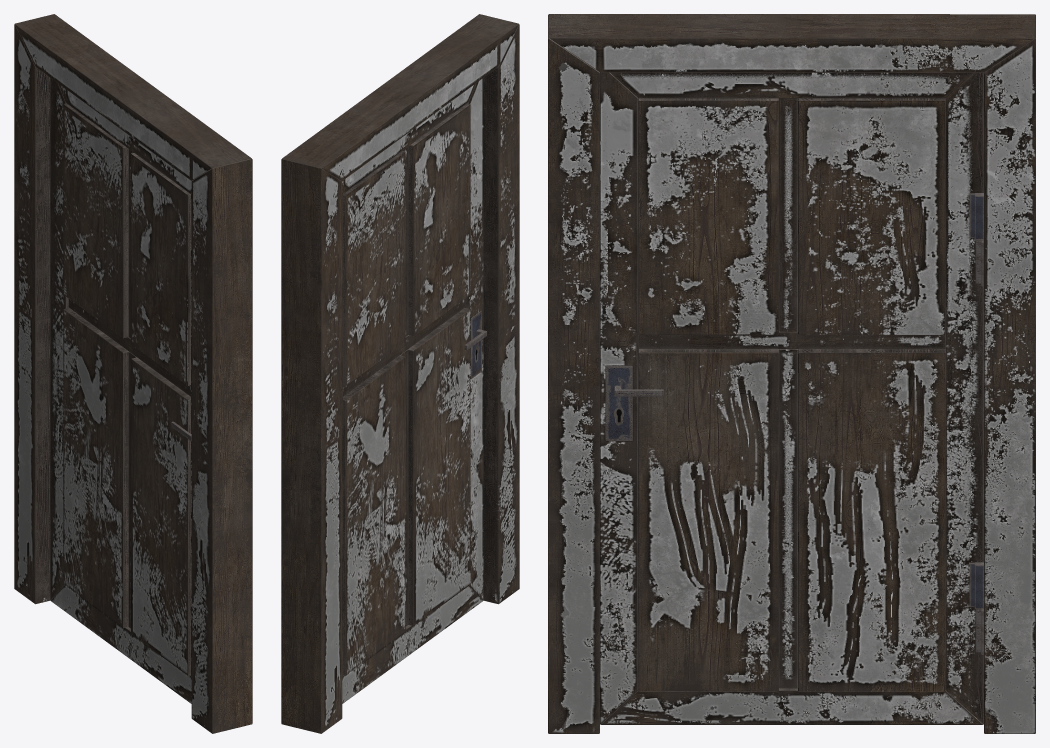
File: SM_BP_DoorSingleClosed_Right_v1.fbx
The picture shows the model from 3 angles, left to right: view 1: azimuth 30°, elevation 25°; view 2: azimuth 150°, elevation 25°; view 3: azimuth 270°, elevation 25°; orthographic projection. The views are drawn at different scales.
Parts seen in each view (by area): view 1: SM_BP_DoorSingleClosed_Green_v2_LOD0; view 2: SM_BP_DoorSingleClosed_Green_v2_LOD0; view 3: SM_BP_DoorSingleClosed_Green_v2_LOD0.
Part boxes in pixels (x1,y1,x2,y2): SM_BP_DoorSingleClosed_Green_v2_LOD0: (14, 14, 252, 733); SM_BP_DoorSingleClosed_Green_v2_LOD0: (281, 14, 519, 733); SM_BP_DoorSingleClosed_Green_v2_LOD0: (548, 14, 1035, 733).
Size of the model in its own units: 15 by 127 by 200.
